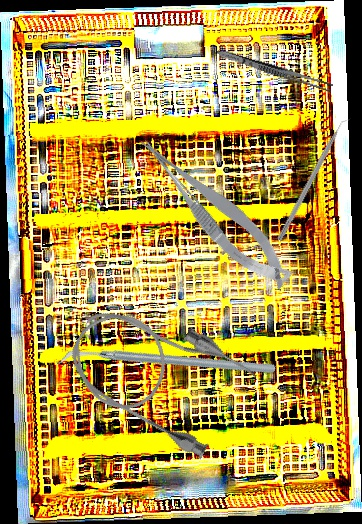Cannula: (54, 282, 263, 465)
Chopper: (55, 272, 278, 456), (276, 114, 355, 245)
Dressing Forceps: (215, 47, 334, 93)
Micro Scissor: (133, 118, 299, 303)
